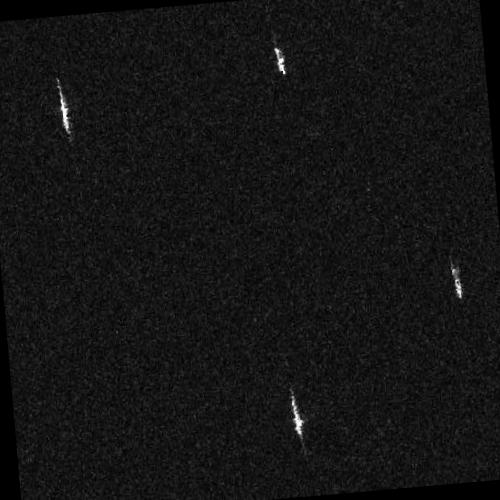ship: (56, 76, 71, 135), (290, 388, 304, 441), (450, 259, 463, 299), (272, 45, 286, 77)
